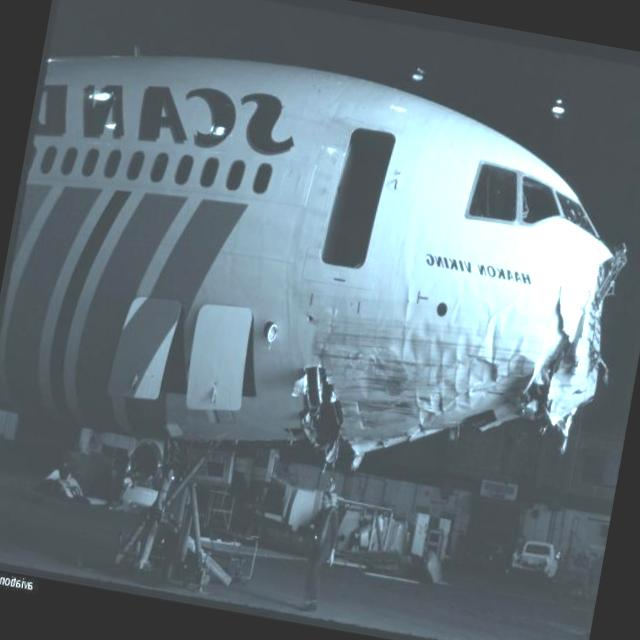crack: (527, 242, 629, 448), (276, 356, 357, 476)
dent: (346, 272, 527, 486)
